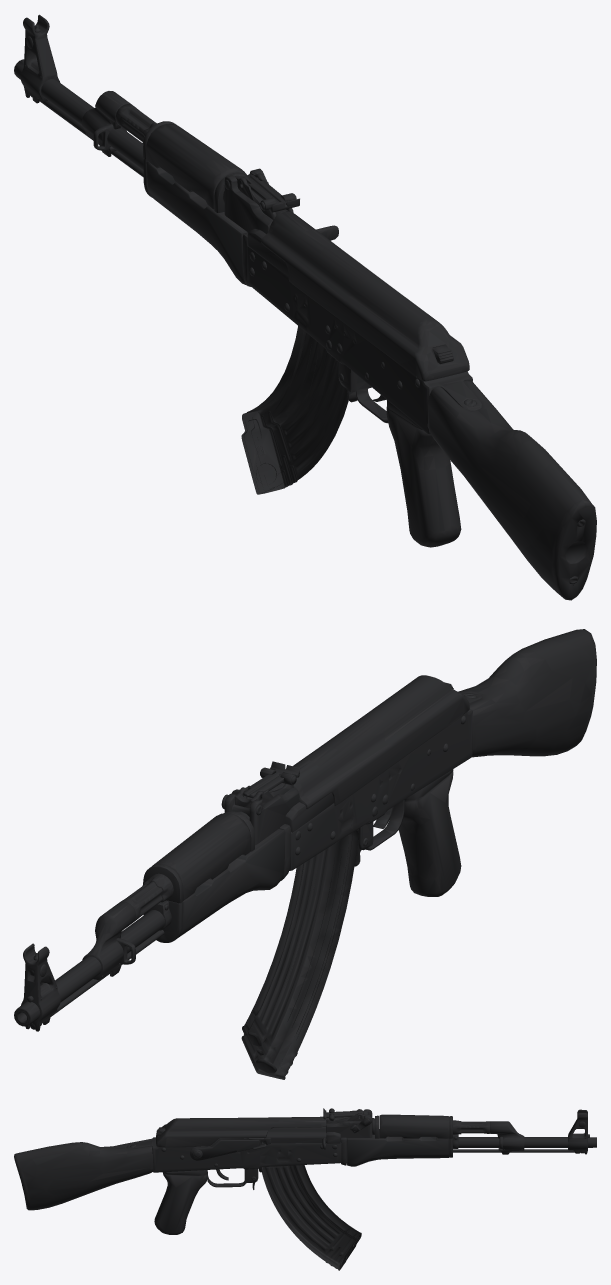
Rendered from rifle.glb.
3 views of the same model, one above another, from view 1: azimuth 30°, elevation 25°; view 2: azimuth 150°, elevation 25°; view 3: azimuth 270°, elevation 25° (orthographic). The views are drawn at different scales.
Visible parts, largest first — view 1: body, furniture, magazine; view 2: body, furniture, magazine; view 3: body, furniture, magazine, bolt.
Boxes of the visible parts, x1,y1,x2,y2 form: body: (14,14,585,584); furniture: (146,123,596,600); magazine: (241,326,348,494); body: (14,675,481,1031); furniture: (152,629,596,937); magazine: (241,829,358,1079); body: (126,1108,596,1189); furniture: (14,1114,449,1234); magazine: (261,1165,361,1270); bolt: (266,1127,326,1149).
Bounding box in the file's own units: 0.0686 × 0.2528 × 0.8545.
1 material, 1 textured.
